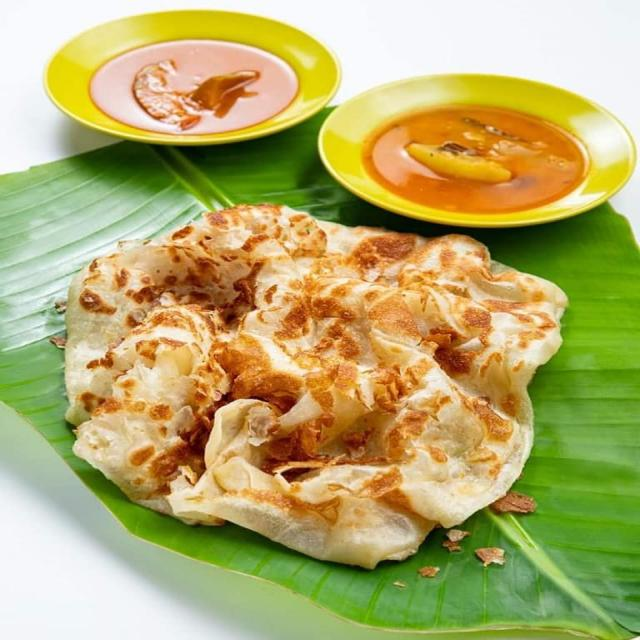Paratha: (76, 235, 589, 553)
